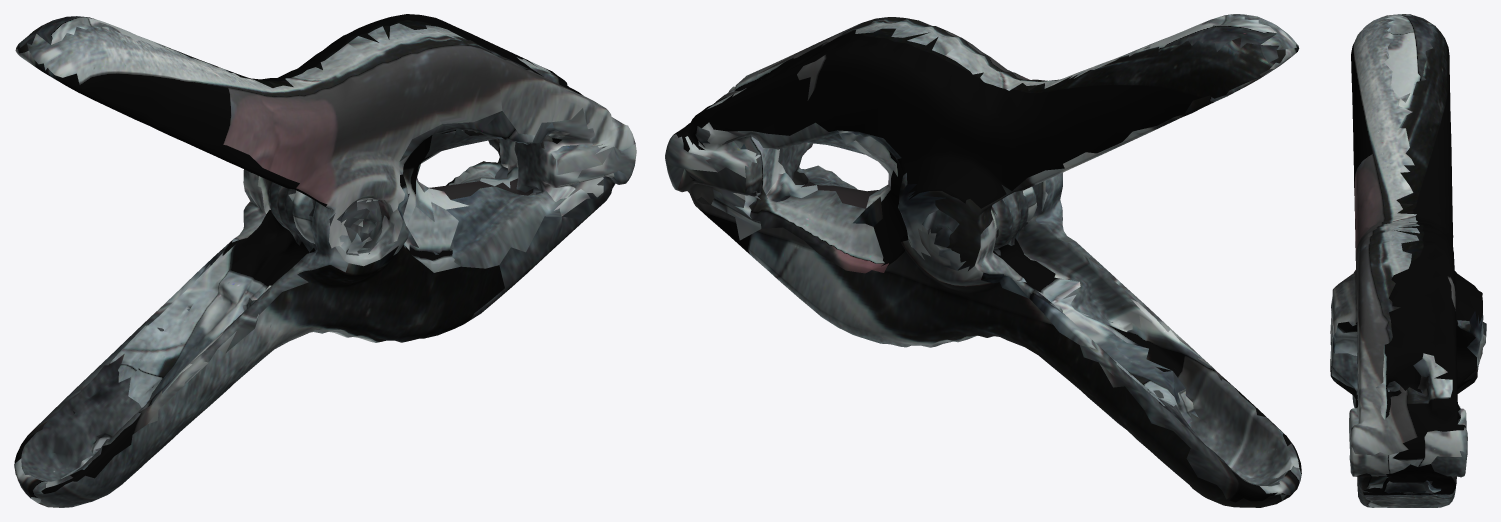
3 views of the same model, side by side, from view 1: azimuth 30°, elevation 25°; view 2: azimuth 150°, elevation 25°; view 3: azimuth 270°, elevation 25° (orthographic). The views are drawn at different scales.
Size of the model in its own units: 0.1125 by 0.0871 by 0.0298.
